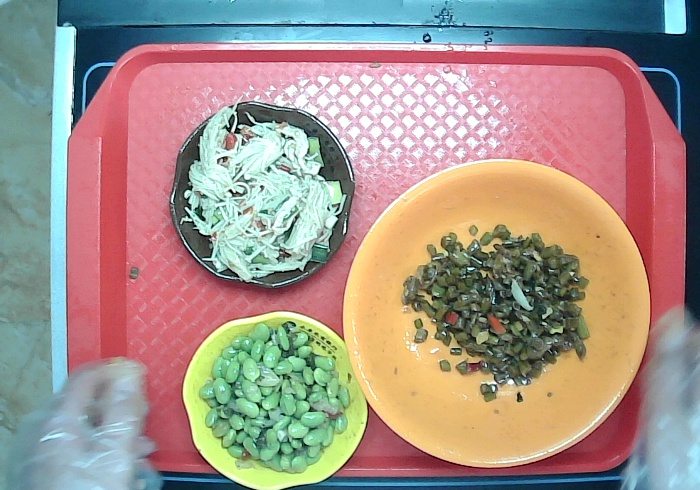YKMZ-Huang_Se_Ao_Bian_Wan: (180, 309, 370, 490)
YKMZ-Ju_Se_Tang_Wan: (340, 157, 652, 469)
YKMZ-Ka_Fei_Ao_Bian_Wan: (168, 99, 357, 289)
